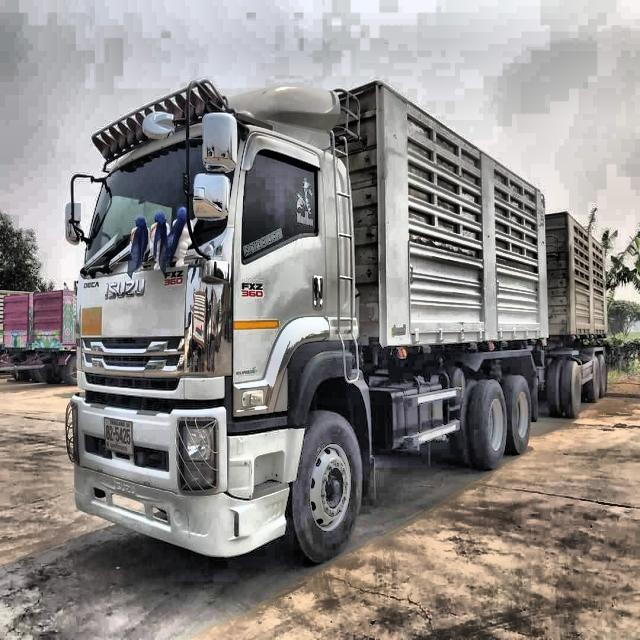trailer: (59, 68, 640, 573)
